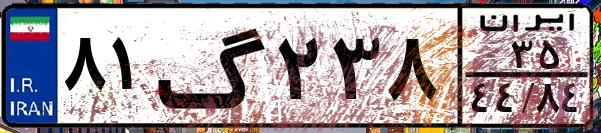1: (110, 28, 156, 98)
2: (270, 28, 330, 110)
3: (330, 28, 385, 110), (508, 27, 537, 80)
4: (560, 70, 590, 125), (470, 70, 495, 125), (495, 70, 520, 125)
5: (537, 27, 568, 80)
8: (385, 28, 445, 110), (57, 26, 110, 100), (535, 70, 560, 125)
گ: (156, 12, 270, 120)
